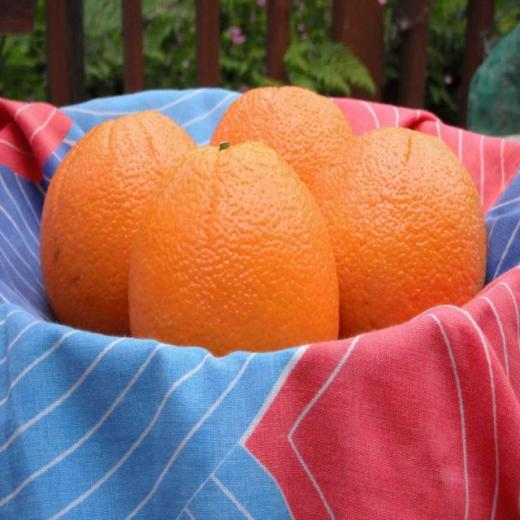Grape: (104, 140, 338, 351), (317, 124, 490, 333), (40, 111, 191, 335), (208, 88, 349, 178)
